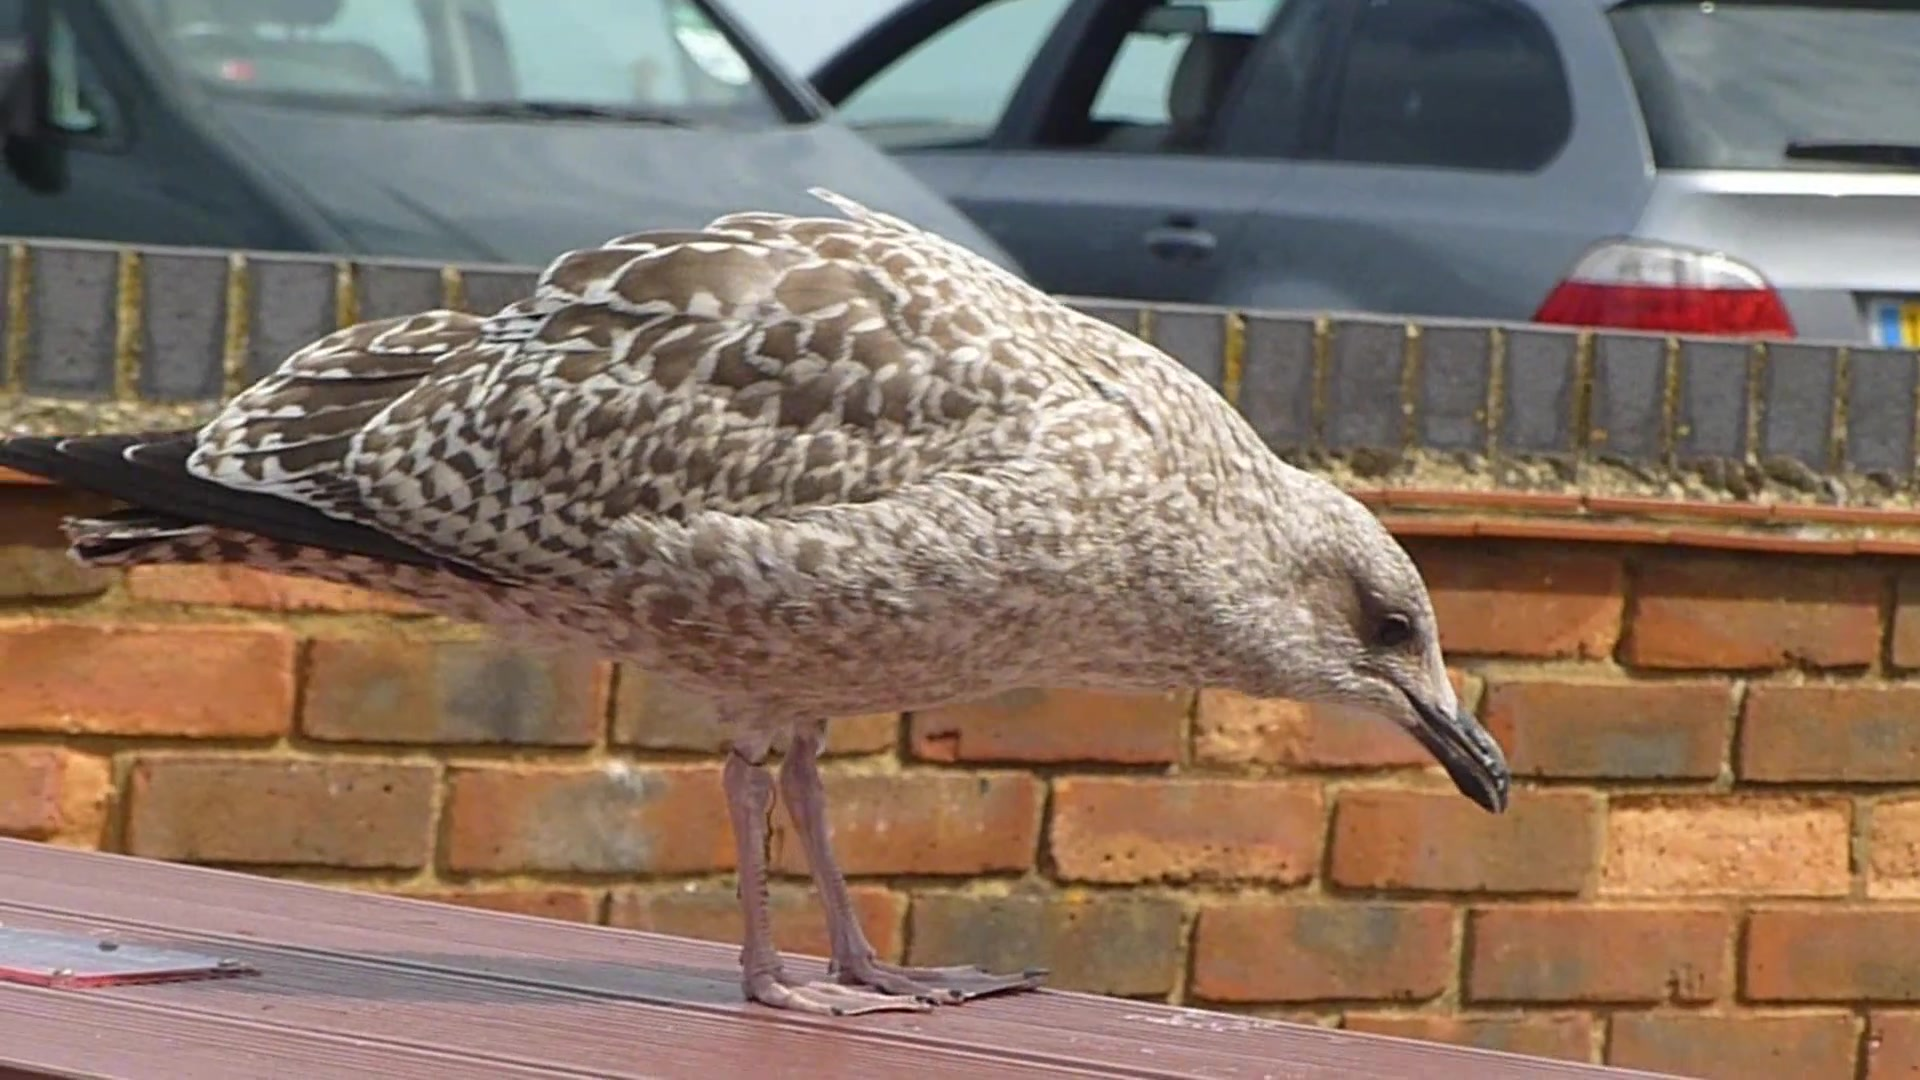bird: (1, 183, 1516, 1029)
